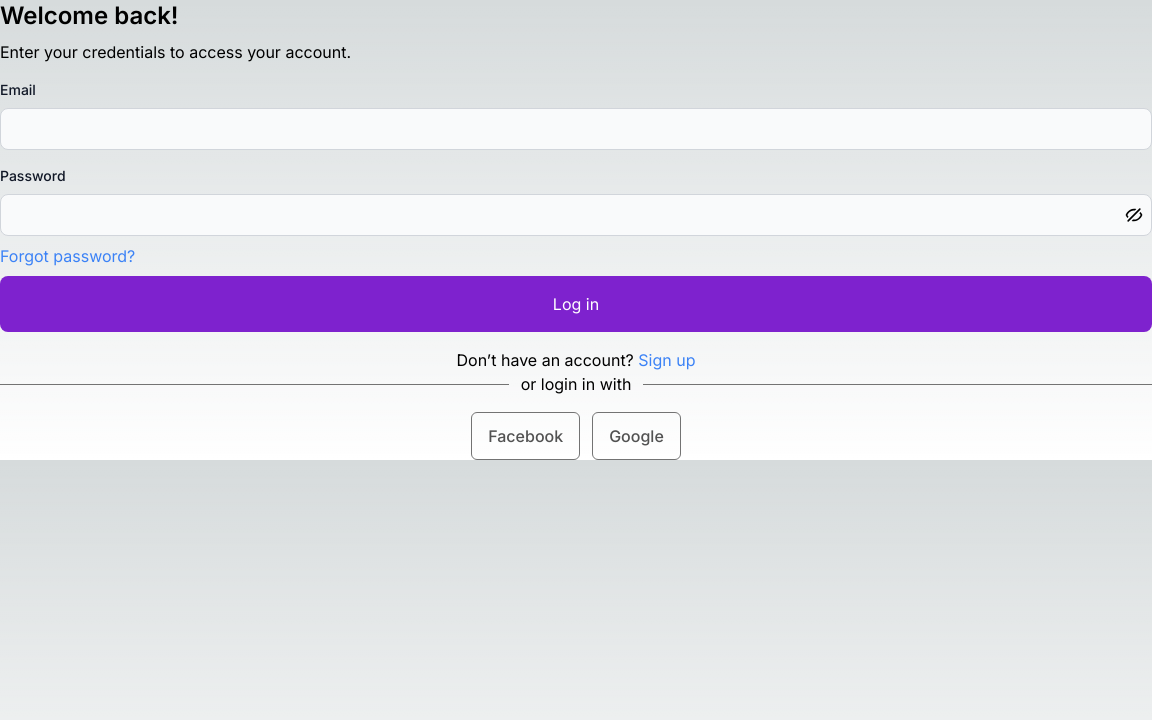
it: FormLogin component › shows error message on failed login attempt (email not found)
Type "invalid@example.com" into the field at (576, 129), box [0,108,1151,150]
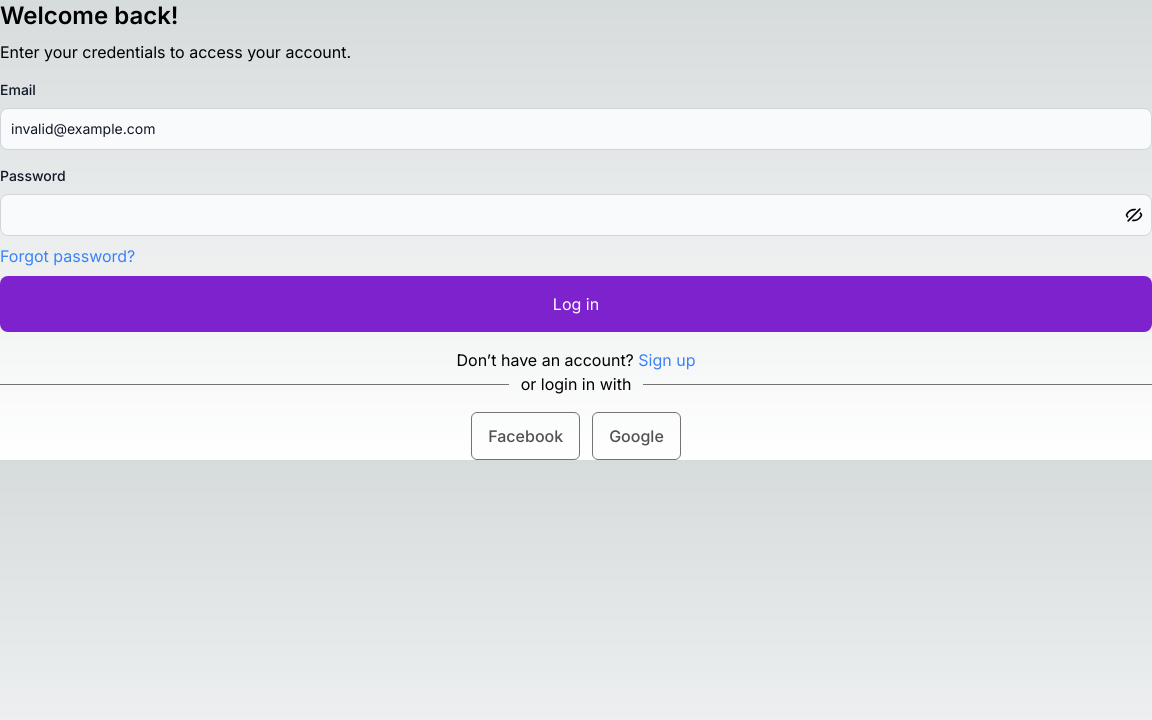
Type "securepassword" into the password field at (576, 215), box [0,194,1151,236]
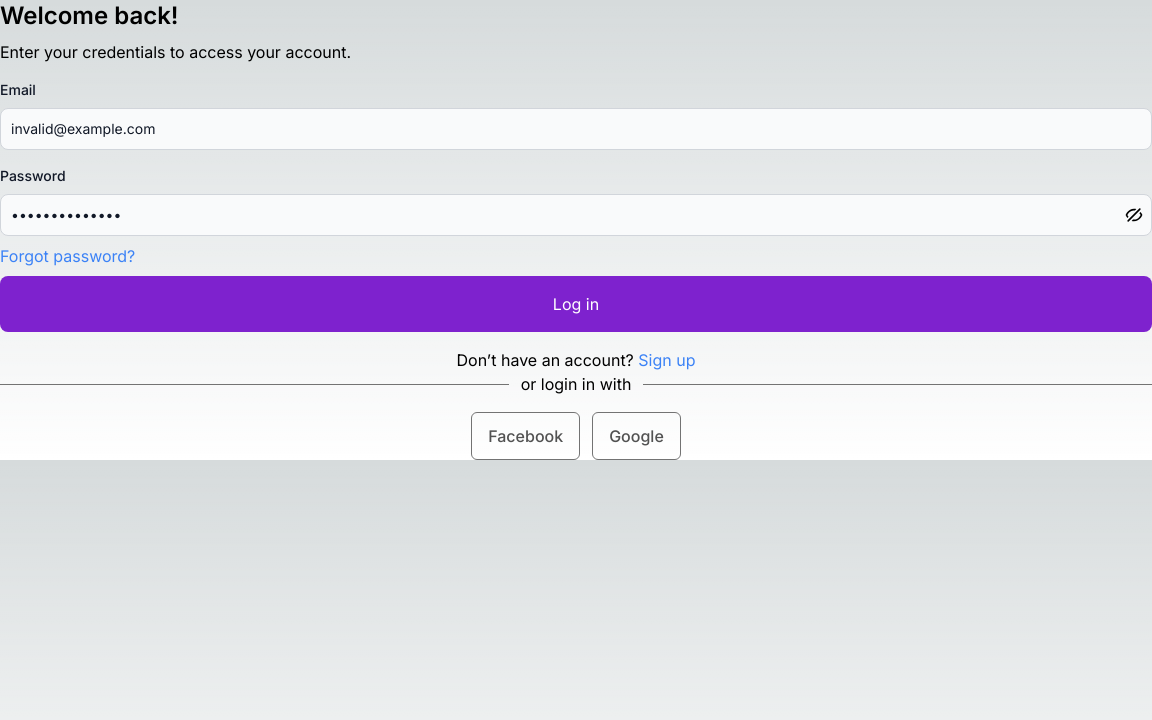
Submit the form from the button "Log in", box [0,276,1151,332]
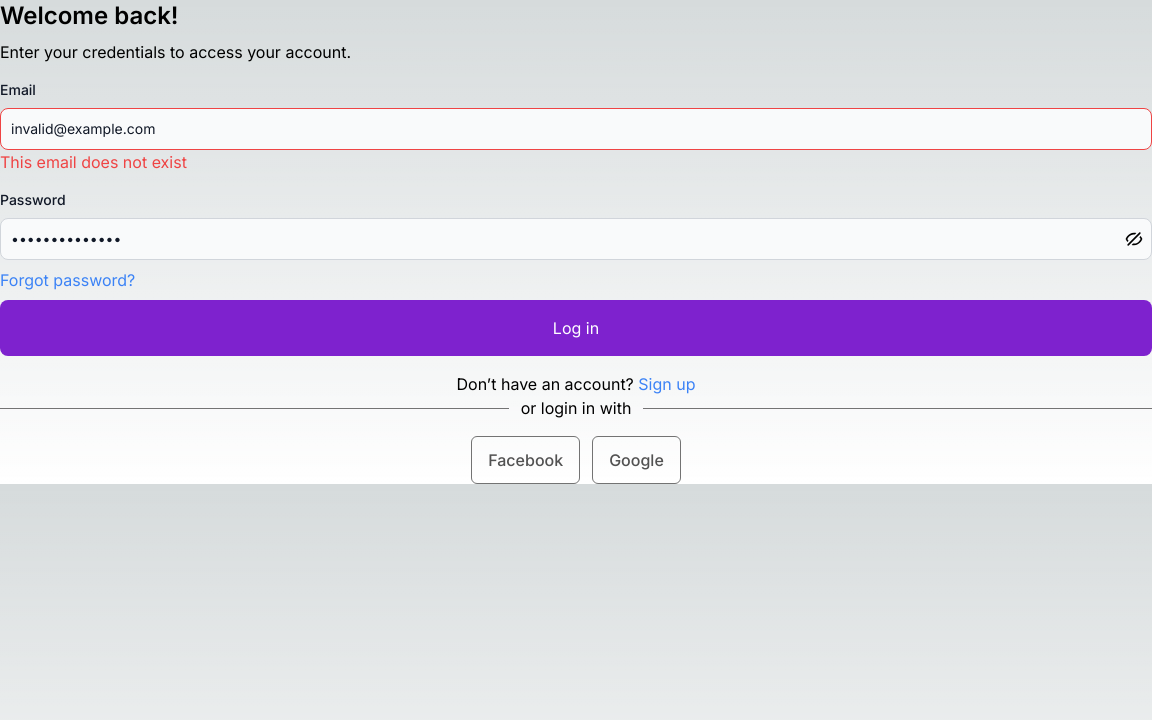
Check: the text "This email does not exist" is shown, box [0,152,187,172]
